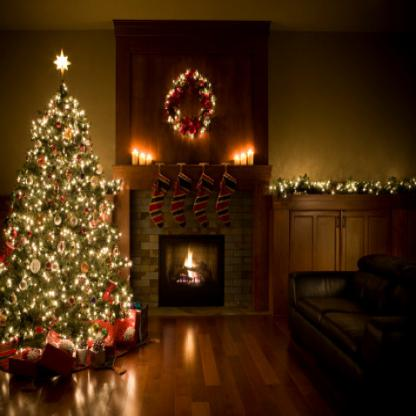present: (36, 320, 75, 388), (123, 301, 154, 357), (72, 330, 114, 370)
x_mas tree: (11, 30, 126, 380)
